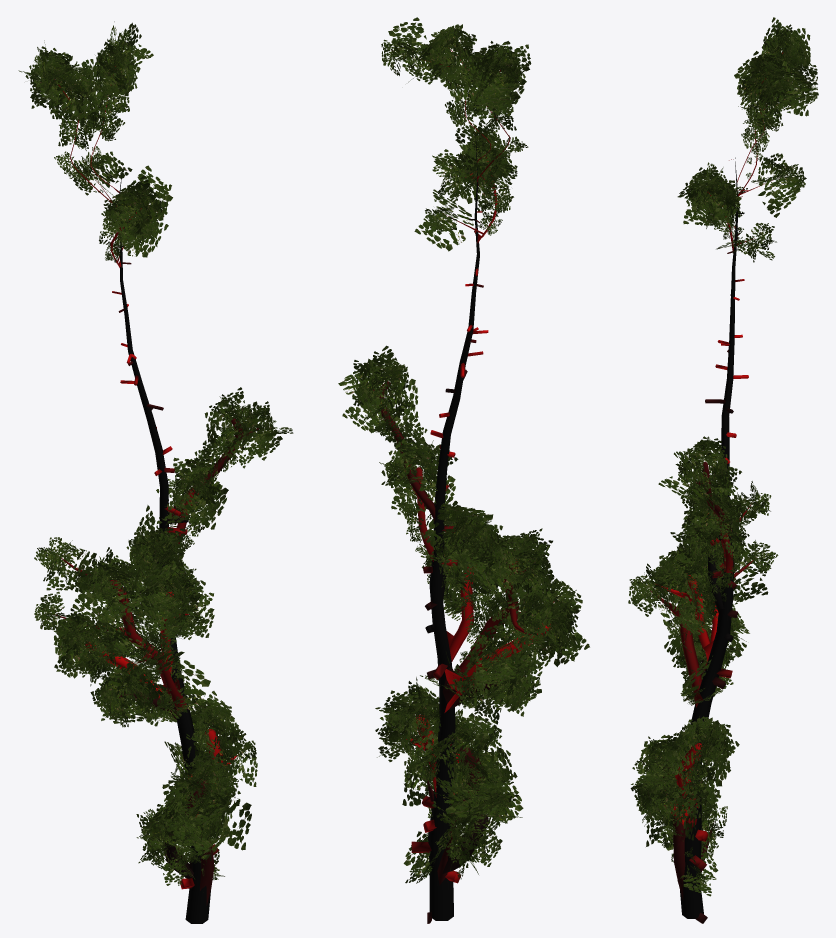
The model's file is Tree_11.fbx.
3 renders of one model, left to right at view 1: azimuth 30°, elevation 25°; view 2: azimuth 150°, elevation 25°; view 3: azimuth 270°, elevation 25°, orthographic. The views are drawn at different scales.
Visible parts, largest first — view 1: Tree_24; view 2: Tree_24; view 3: Tree_24.
Part boxes in pixels (x1,y1,x2,y2): Tree_24: (18,21,293,923); Tree_24: (338,17,589,923); Tree_24: (628,17,818,923).
Bounding box in the file's own units: 719 × 2427 × 515.
